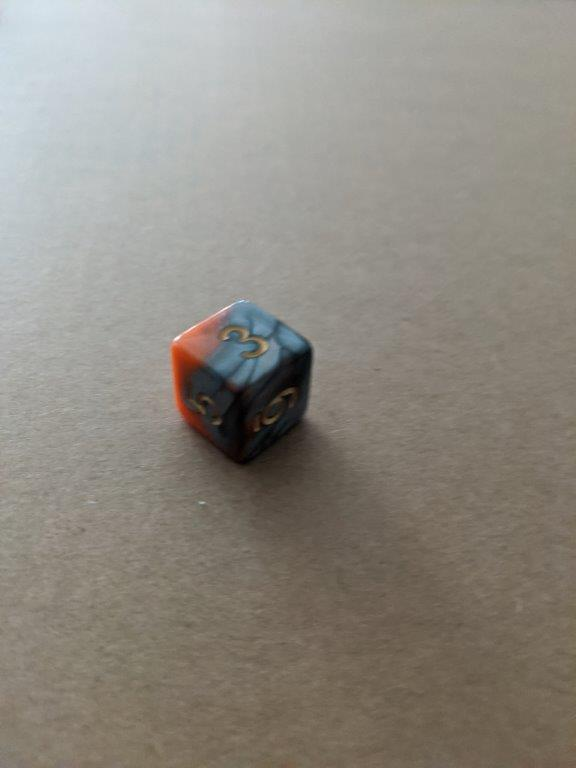d6-3: (172, 298, 317, 467)
